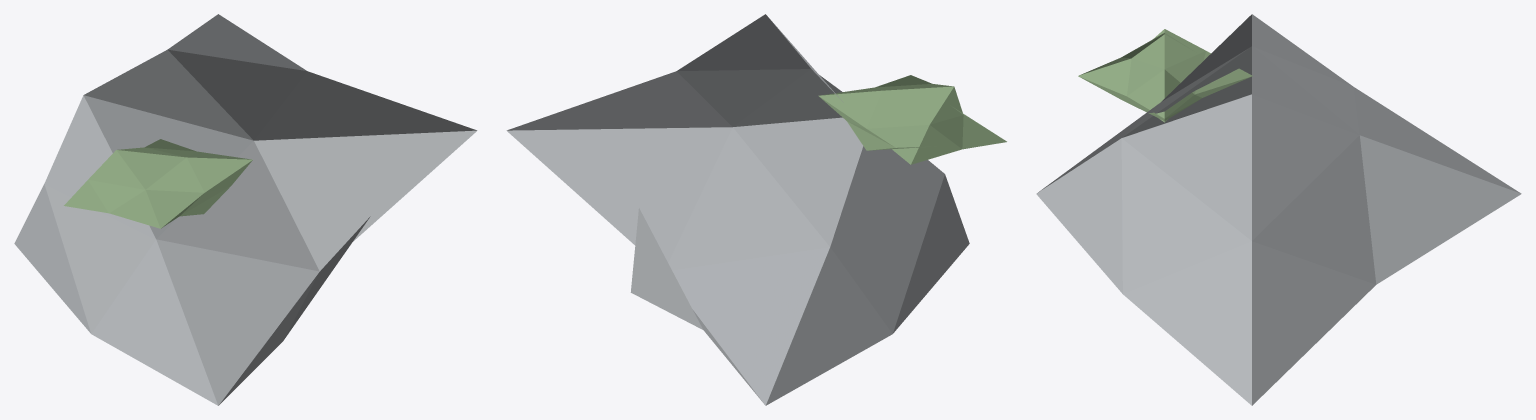
The model's file is boulder_v31.glb.
The picture shows the model from 3 angles, left to right: view 1: azimuth 30°, elevation 25°; view 2: azimuth 150°, elevation 25°; view 3: azimuth 270°, elevation 25°; orthographic projection.
Parts seen in each view (by area): view 1: lod0; view 2: lod0; view 3: lod0.
Boxes of the visible parts, x1,y1,x2,y2 form: lod0: [14, 14, 477, 405]; lod0: [506, 14, 1006, 405]; lod0: [1036, 14, 1521, 405].
Size of what is drawn, in the model's own units: 2.69 by 2.18 by 2.45.
